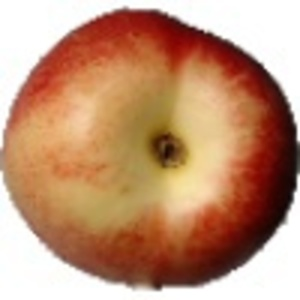nectarina: (1, 6, 300, 292)
